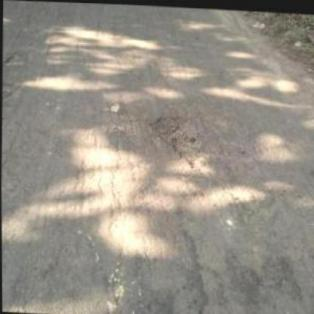Hueco: (148, 111, 206, 174), (3, 51, 27, 70)
